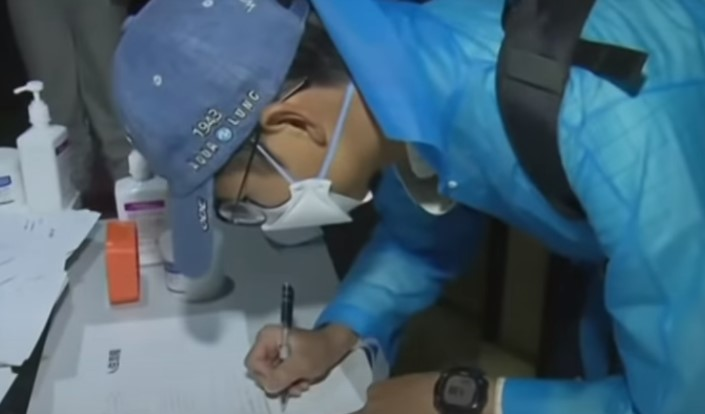face_with_mask: (108, 3, 378, 288)
